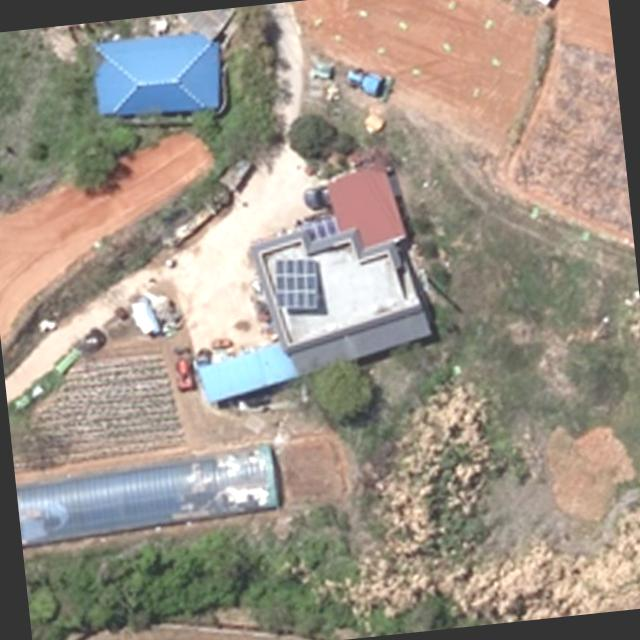solar: (271, 254, 324, 316)
